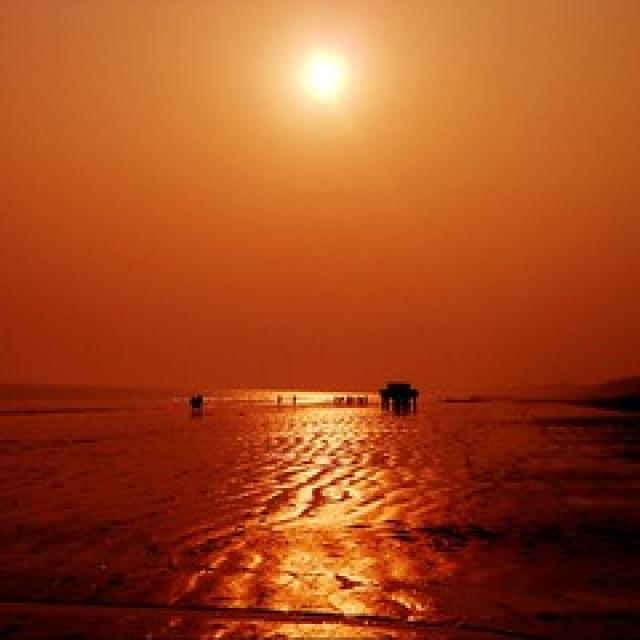sun: (249, 29, 399, 124)
